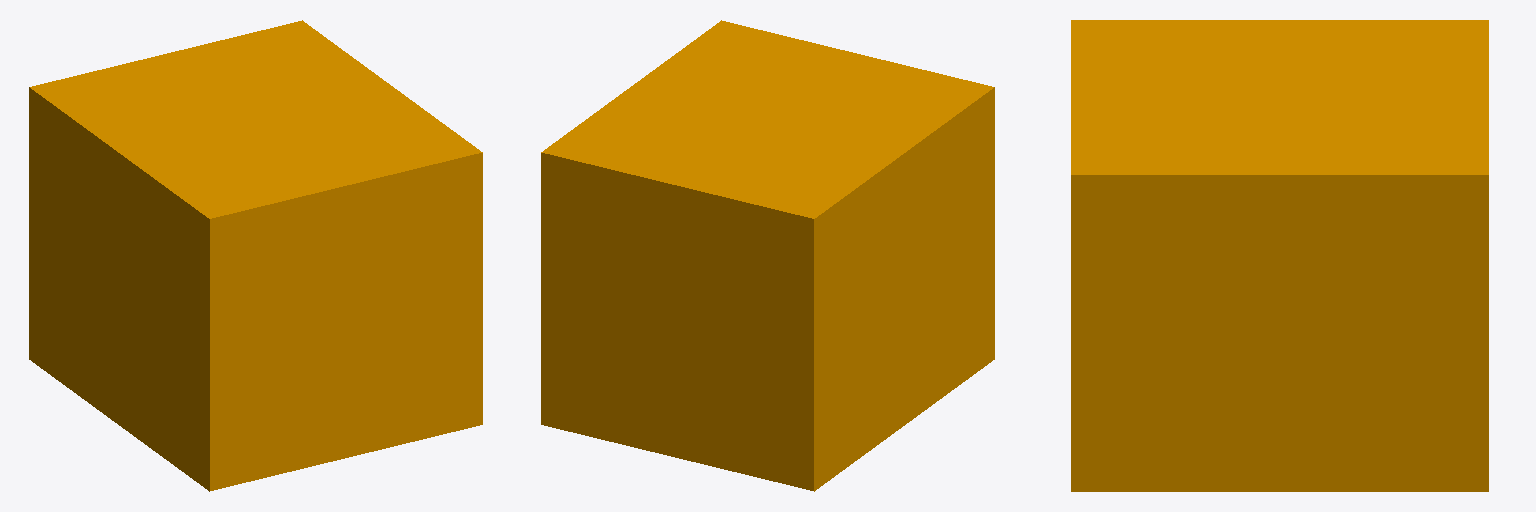
The robot description file, URDF, robot "object":
<robot name="object">
  <link name="object">
    <visual>
      <origin xyz="0 0 0" />
      <geometry>
        <box size="0.08400000000000002 0.09600000000000003 0.08" />
      </geometry>
    </visual>

    <collision>
      <origin xyz="0 0 0" />
      <geometry>
        <box size="0.08400000000000002 0.09600000000000003 0.08" />
      </geometry>
    </collision>

    <inertial>
      <mass value="0.05" />
      <inertia ixx="0.0001" ixy="0.0" ixz="0.0" iyy="0.0001" iyz="0.0" izz="0.0001" />
    </inertial>
  </link>
</robot>

--- What the picture shows (computed from the rendered views, not written in the file) ---
The picture shows the robot from 3 angles, left to right: view 1: azimuth 30°, elevation 25°; view 2: azimuth 150°, elevation 25°; view 3: azimuth 270°, elevation 25°; orthographic projection.
Robot: object — 1 links, 0 joints (none); root link object; default pose: all joints at 0.
Links seen in each view (by area): view 1: object; view 2: object; view 3: object.
Link boxes in pixels (bbox=[...]): object: bbox=[29, 20, 482, 491]; object: bbox=[541, 20, 994, 491]; object: bbox=[1071, 20, 1488, 491].
Bounding box of the posed robot: 0.084 × 0.096 × 0.08 m (x, y, z).
Geometry: primitives only (box / cylinder / sphere), no mesh files.